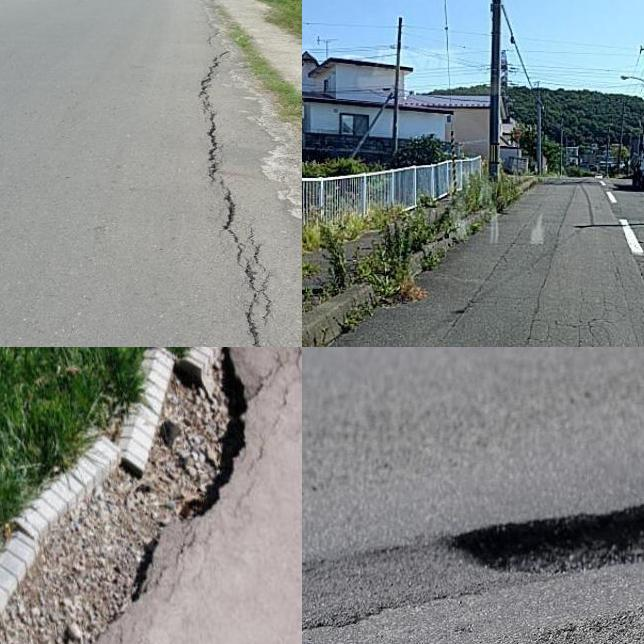Lubang: (463, 507, 644, 576)
Pinggir: (0, 347, 268, 644), (164, 0, 302, 347)
